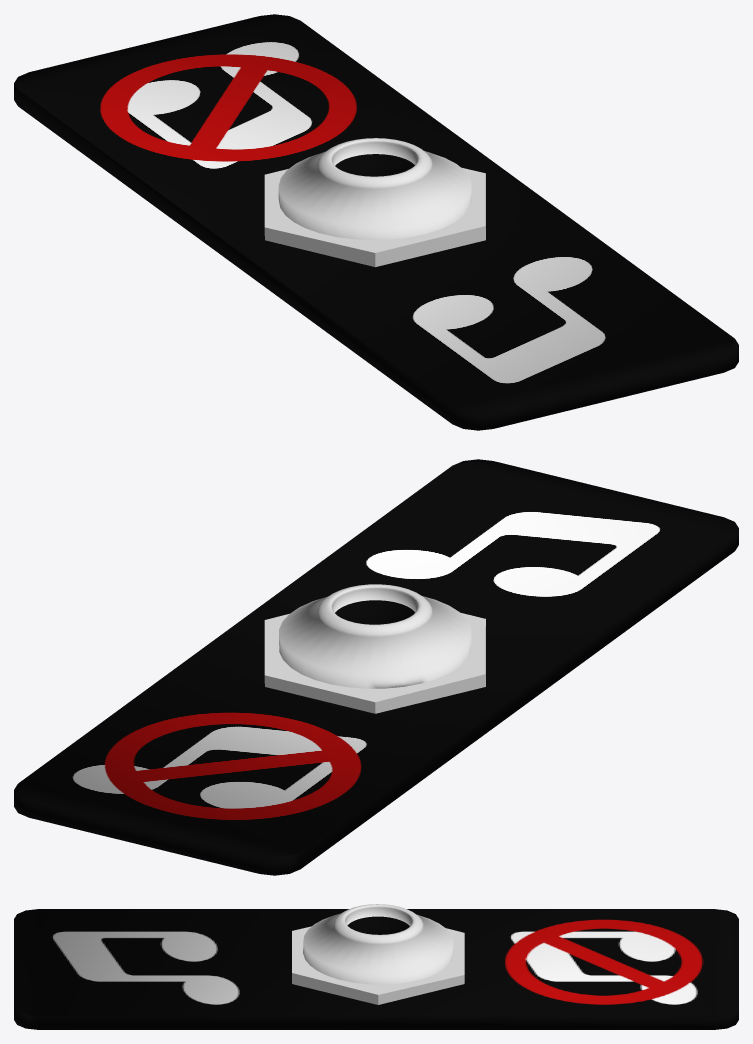
The model's file is mdl_penny_press_toggle.gltf.
3 views of the same model, one above another, from view 1: azimuth 30°, elevation 25°; view 2: azimuth 150°, elevation 25°; view 3: azimuth 270°, elevation 25° (orthographic). The views are drawn at different scales.
Parts seen in each view (by area): view 1: SwitchBox, SwitchHousing; view 2: SwitchBox, SwitchHousing; view 3: SwitchBox, SwitchHousing.
Part boxes in pixels (bbox=[...]): SwitchBox: bbox=[14, 14, 738, 430]; SwitchHousing: bbox=[264, 138, 485, 267]; SwitchBox: bbox=[14, 459, 738, 875]; SwitchHousing: bbox=[264, 584, 485, 713]; SwitchBox: bbox=[14, 909, 738, 1029]; SwitchHousing: bbox=[292, 904, 464, 1004].
Size of the model in its own units: 0.071 by 0.019 by 0.202.
3 materials, 1 textured.
